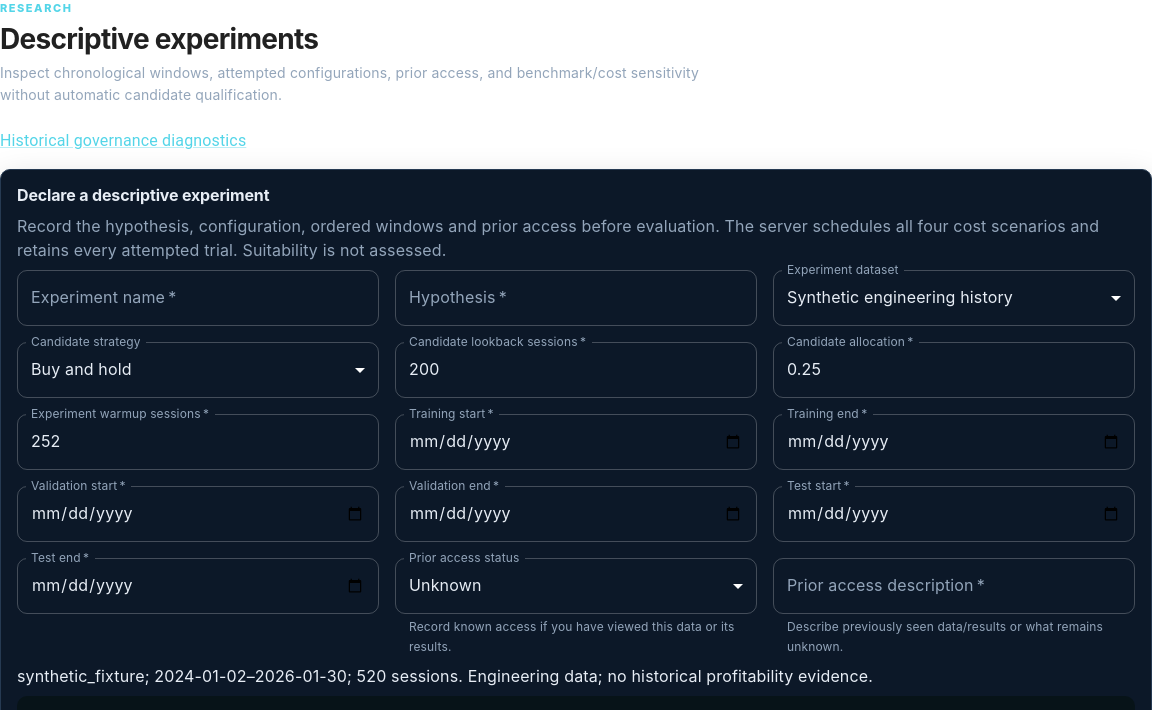
descriptive experiment workflow › prefills catalog access and prevents a known-accessed dataset being downgraded
Expected: the dropdown labelled "Prior access status" shows "Unknown", [395, 558, 757, 614]
Select "Imported five-session sample" in the dropdown labelled "Experiment dataset" at {"x": 954, "y": 298}, box [773, 270, 1135, 326]
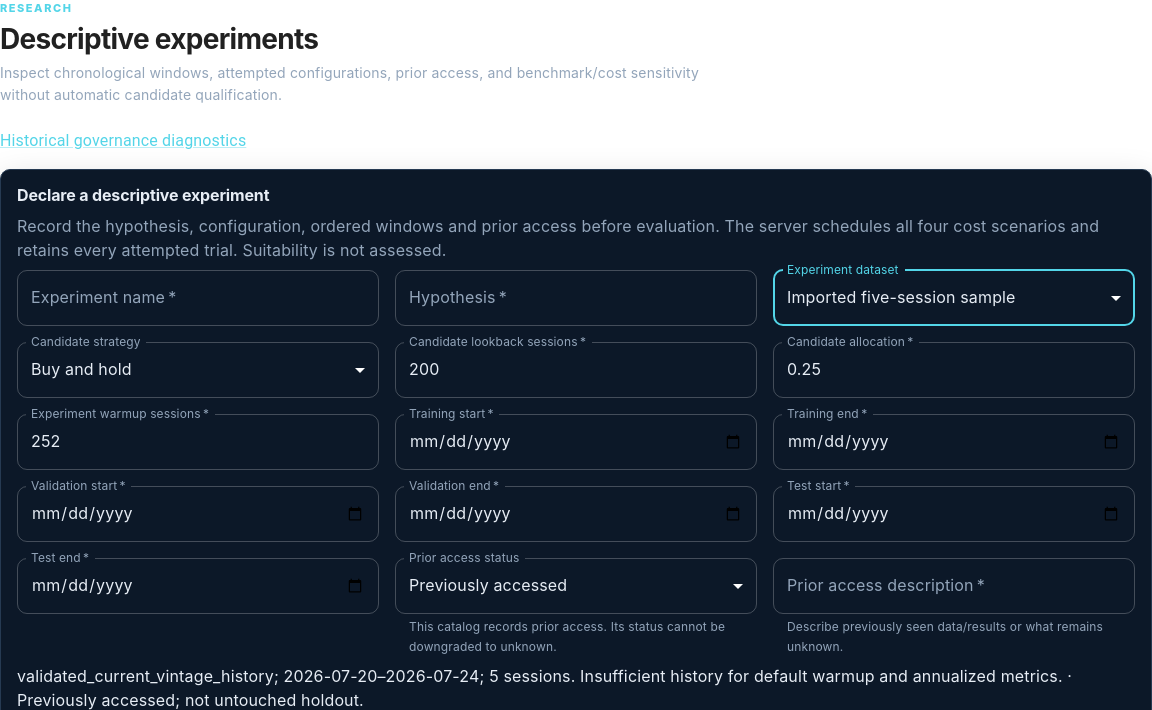
Expected: the text box labelled "Prior access description *" is empty, [787, 574, 1121, 597]
Now the dropdown labelled "Prior access status" shows "Previously accessed", box [395, 558, 757, 614]
Now the text "This catalog records prior access. Its status cannot be downgraded to unknown." is shown, box [409, 617, 743, 656]
